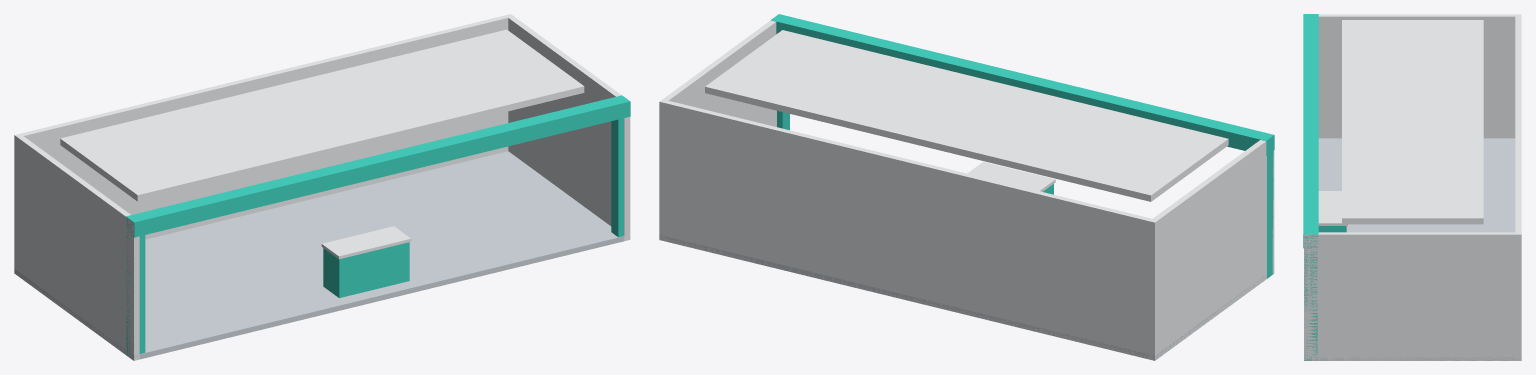
The picture shows the model from 3 angles, left to right: view 1: azimuth 30°, elevation 25°; view 2: azimuth 150°, elevation 25°; view 3: azimuth 270°, elevation 25°; orthographic projection. The views are drawn at different scales.
Parts seen in each view (by area): view 1: Exhibition Booth Concept; view 2: Exhibition Booth Concept; view 3: Exhibition Booth Concept.
Part boxes in pixels (x1,y1,x2,y2): Exhibition Booth Concept: [14, 14, 630, 360]; Exhibition Booth Concept: [659, 14, 1274, 360]; Exhibition Booth Concept: [1303, 14, 1521, 360].
Bounding box in the file's own units: 12 × 3.34 × 5.02.
